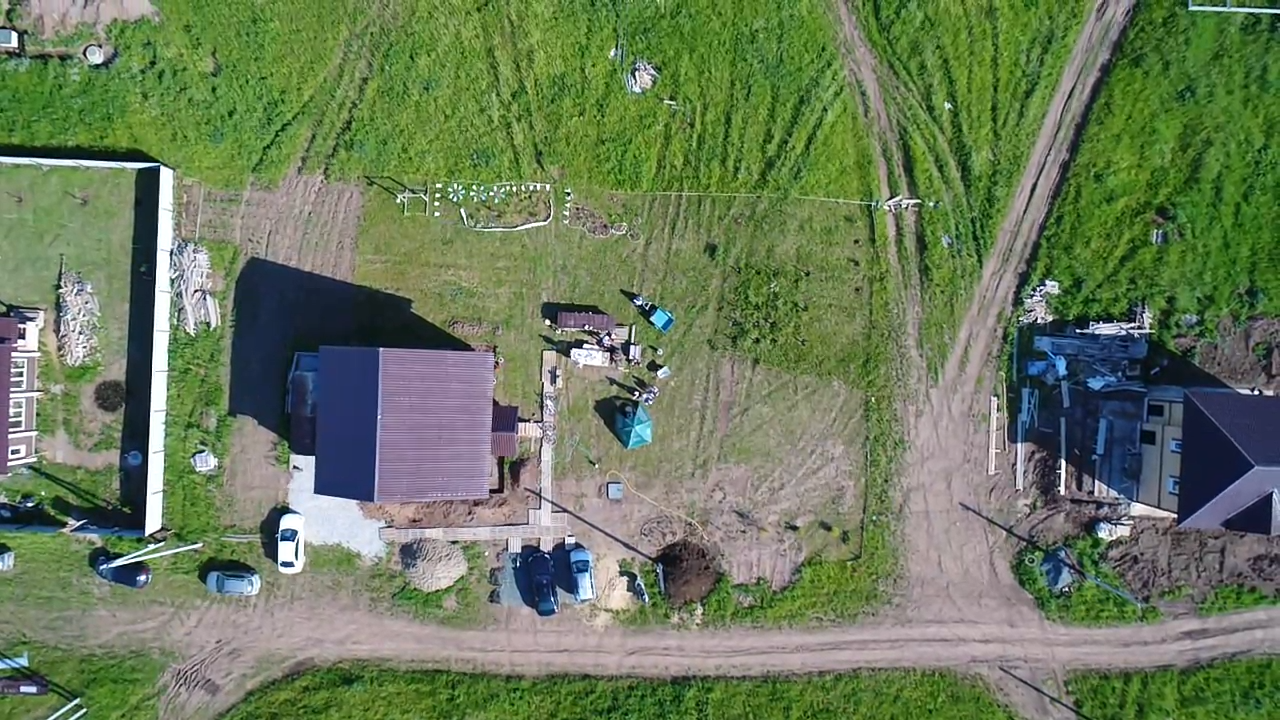build: (277, 333, 521, 509), (1126, 375, 1280, 539), (1, 286, 48, 488)
